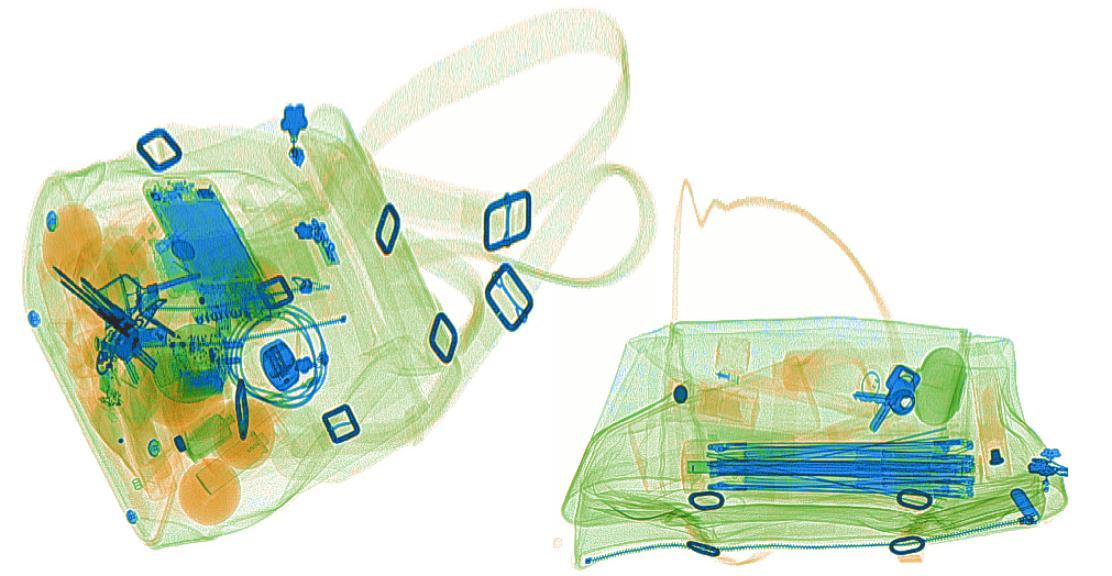plasticBottleWithaNozzle: (77, 203, 173, 324)
pressure: (194, 410, 289, 496)
